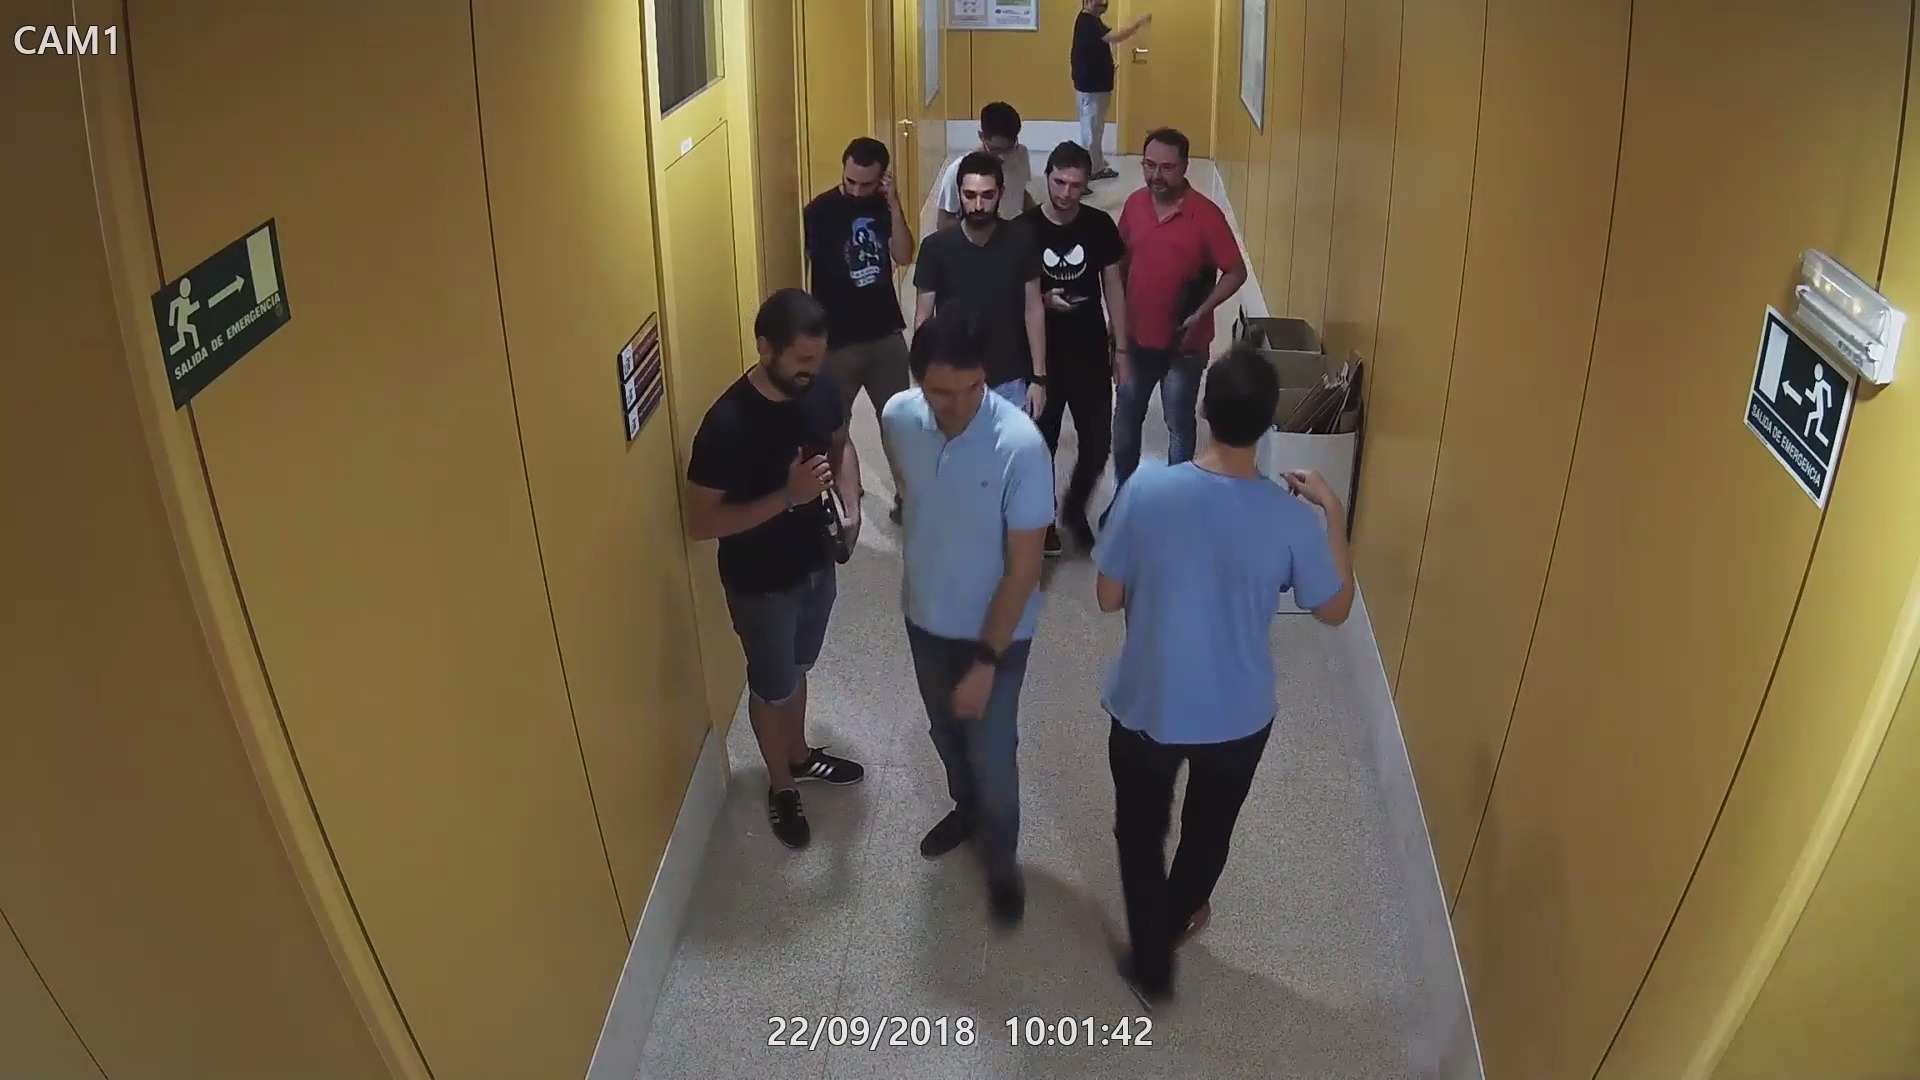Short_rifle: (786, 444, 860, 564), (1154, 257, 1220, 386)
